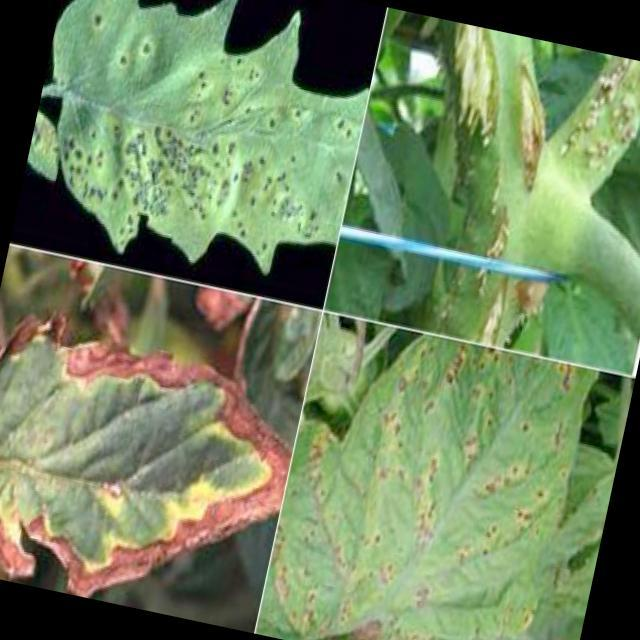Tomato bacterial spot leaf: (11, 0, 379, 296), (255, 322, 597, 640), (0, 297, 309, 632)
